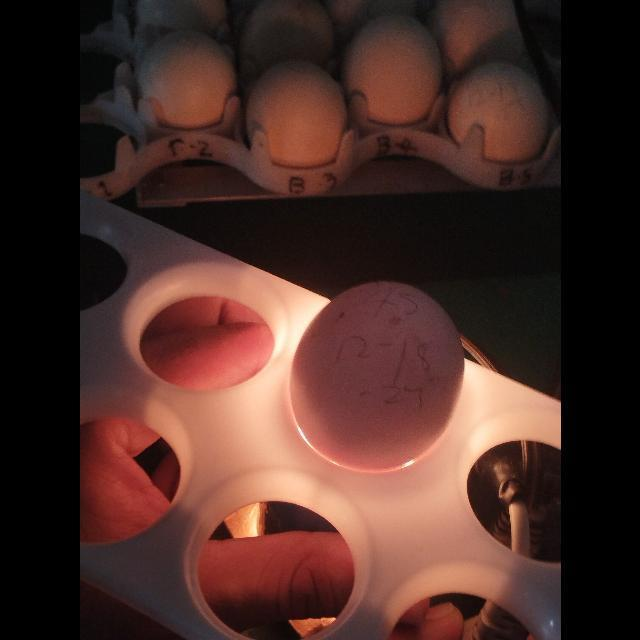A - Good: (281, 269, 469, 487)
